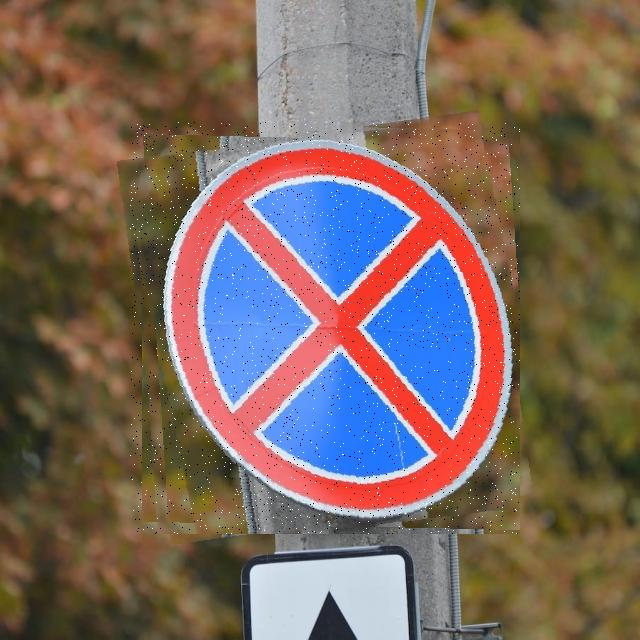no stopping: (130, 122, 520, 534)
